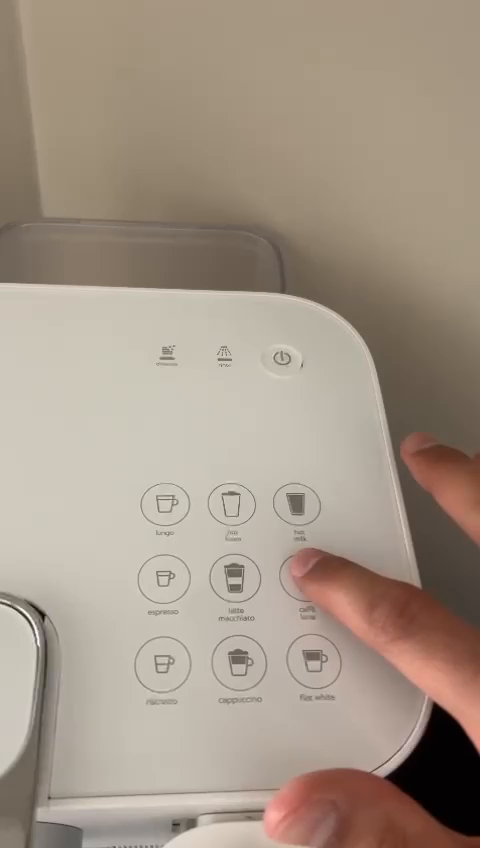power_button: (257, 334, 315, 385)
